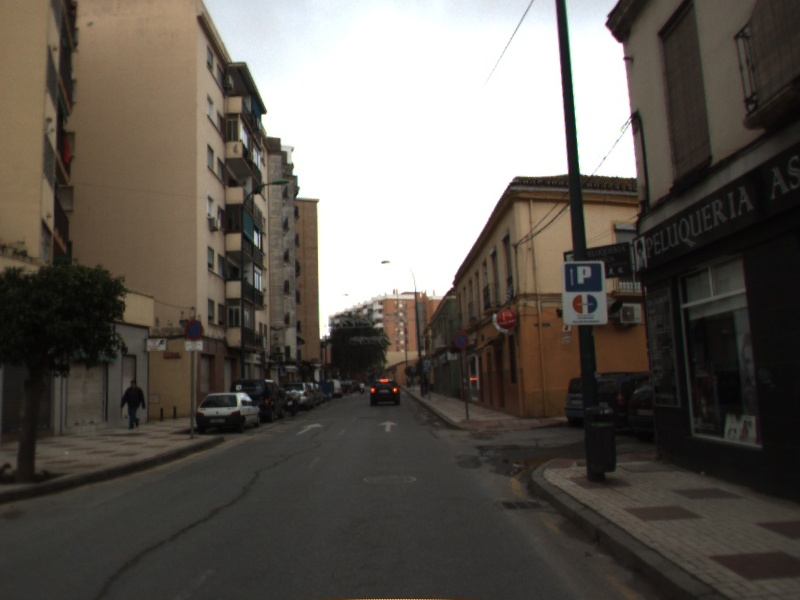STRAIGHT: (293, 421, 325, 437), (375, 419, 401, 434)
